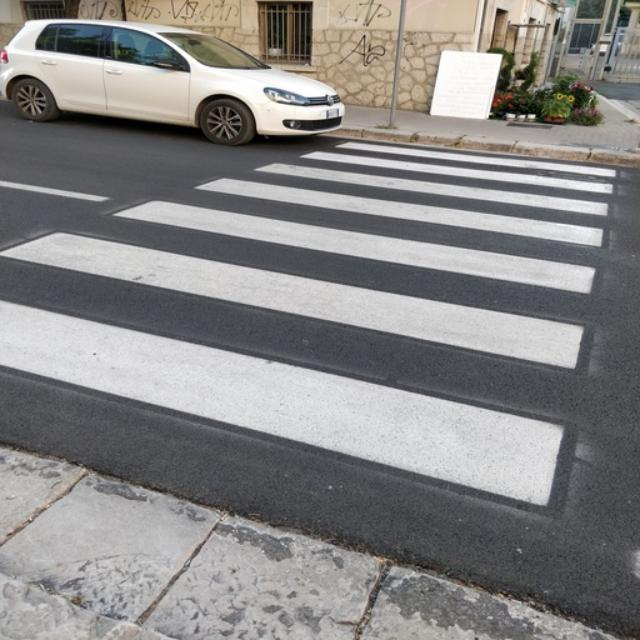sidewalk: (0, 137, 623, 591)
